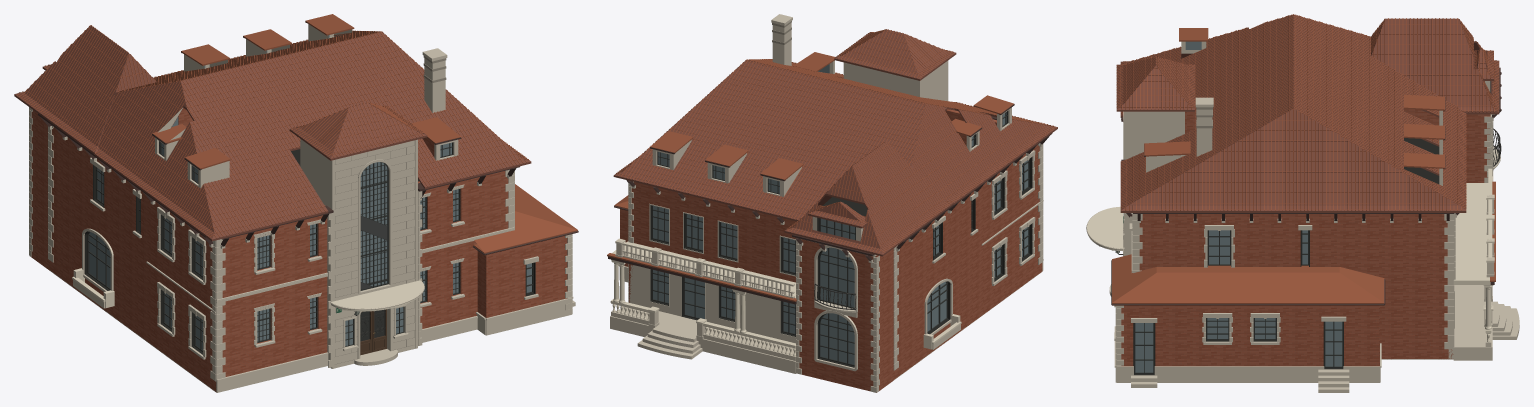
The model's file is xuhui-pathe-records-office-web.glb.
The picture shows the model from 3 angles, left to right: view 1: azimuth 30°, elevation 25°; view 2: azimuth 150°, elevation 25°; view 3: azimuth 270°, elevation 25°; orthographic projection. The views are drawn at different scales.
Parts seen in each view (by area): view 1: 东方百代唱片公司办公楼（百代小楼）; view 2: 东方百代唱片公司办公楼（百代小楼）; view 3: 东方百代唱片公司办公楼（百代小楼）.
Boxes of the visible parts, left/top/right/bottom form: 东方百代唱片公司办公楼（百代小楼）: left=14, top=14, right=578, bottom=392; 东方百代唱片公司办公楼（百代小楼）: left=607, top=14, right=1057, bottom=392; 东方百代唱片公司办公楼（百代小楼）: left=1086, top=14, right=1519, bottom=392.
Bounding box in the file's own units: 17.87 × 11.21 × 18.41.
17 materials, 1 textured.
